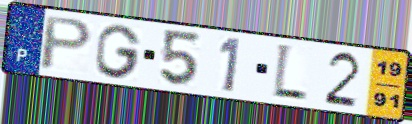1: (216, 36, 243, 95)
2: (323, 50, 364, 109)
5: (160, 27, 204, 89)
G: (93, 22, 144, 80)
L: (270, 40, 310, 104)
P: (36, 14, 96, 72)
